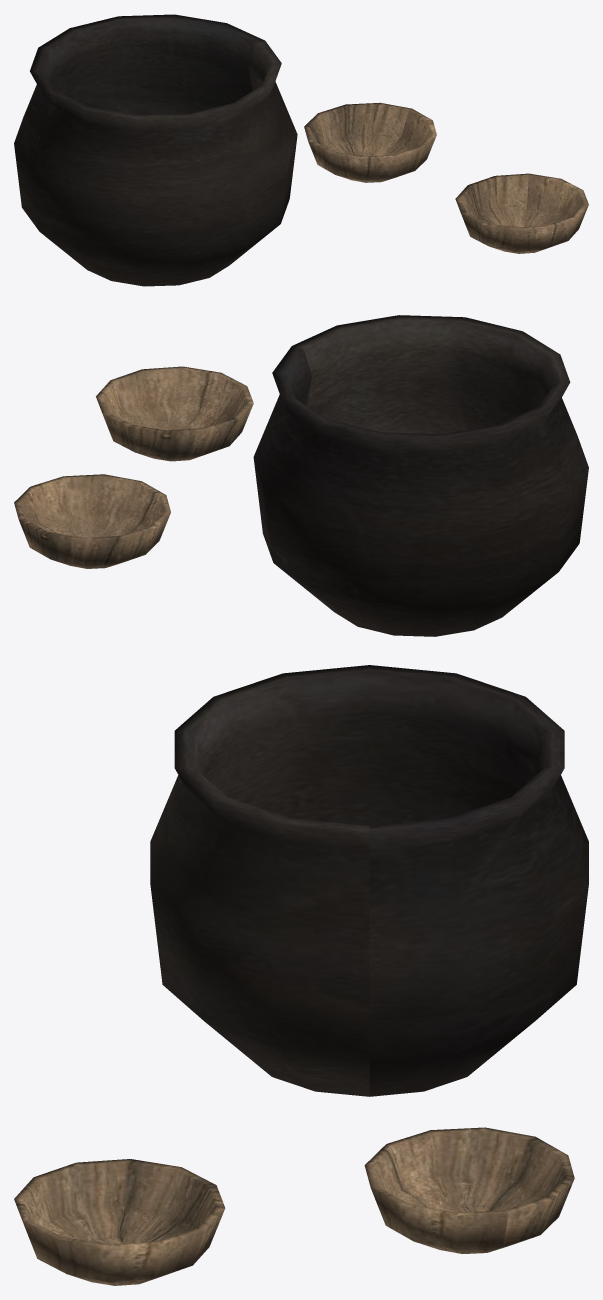
File: kit_sr_pot_bowls_p.glb
3 views of the same model, one above another, from view 1: azimuth 30°, elevation 25°; view 2: azimuth 150°, elevation 25°; view 3: azimuth 270°, elevation 25° (orthographic). The views are drawn at different scales.
Parts seen in each view (by area): view 1: kit_sr_pot_bowls_p; view 2: kit_sr_pot_bowls_p; view 3: kit_sr_pot_bowls_p.
Boxes of the visible parts, x1,y1,x2,y2 form: kit_sr_pot_bowls_p: [14, 14, 588, 286]; kit_sr_pot_bowls_p: [14, 315, 588, 636]; kit_sr_pot_bowls_p: [14, 665, 588, 1285].
Size of the model in its own units: 0.6846 by 0.26 by 0.46.
Materials: 1 (1 with a texture image).
